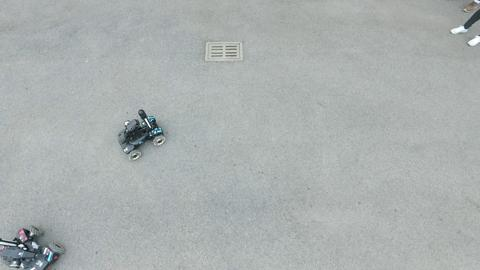chariot: (1, 223, 66, 270), (115, 107, 167, 160)
